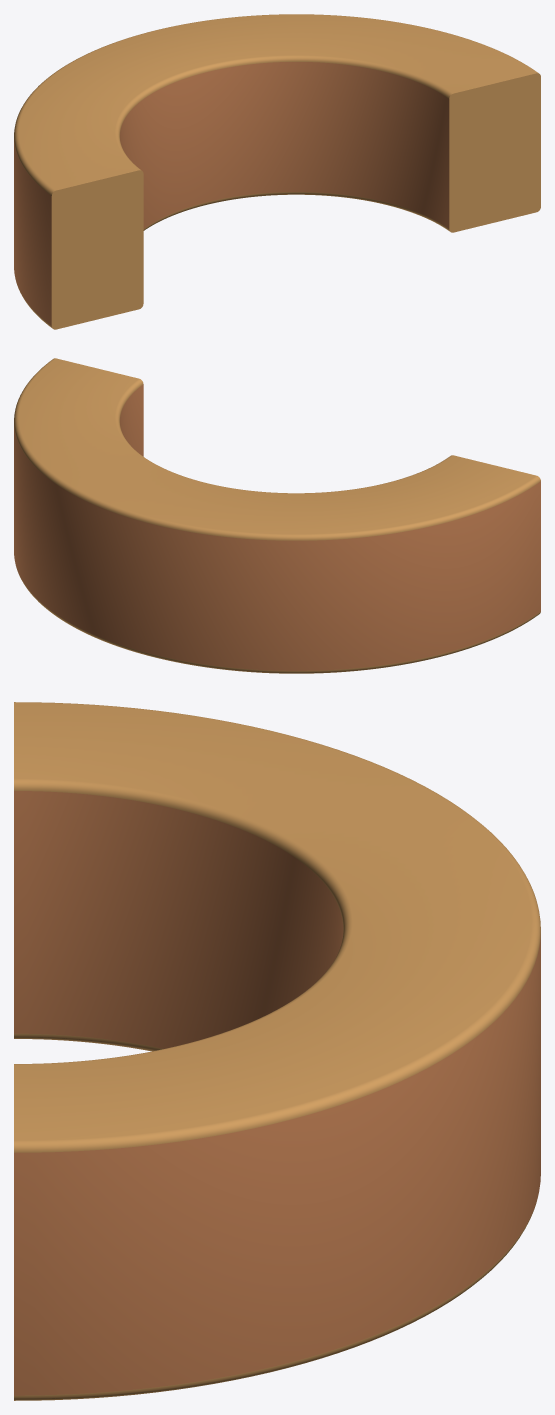
File: Eclipse.fbx
3 views of the same model, one above another, from view 1: azimuth 30°, elevation 25°; view 2: azimuth 150°, elevation 25°; view 3: azimuth 270°, elevation 25° (orthographic). The views are drawn at different scales.
Visible parts, largest first — view 1: Tube; view 2: Tube; view 3: Tube.
Boxes of the visible parts, left/top/right/bottom form: Tube: left=14, top=14, right=540, bottom=329; Tube: left=14, top=358, right=540, bottom=673; Tube: left=14, top=702, right=540, bottom=1400.
Size of the model in its own units: 800 by 217 by 400.
